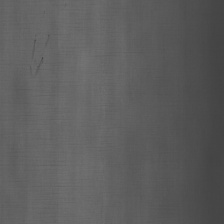water_spot: (24, 30, 54, 81)
